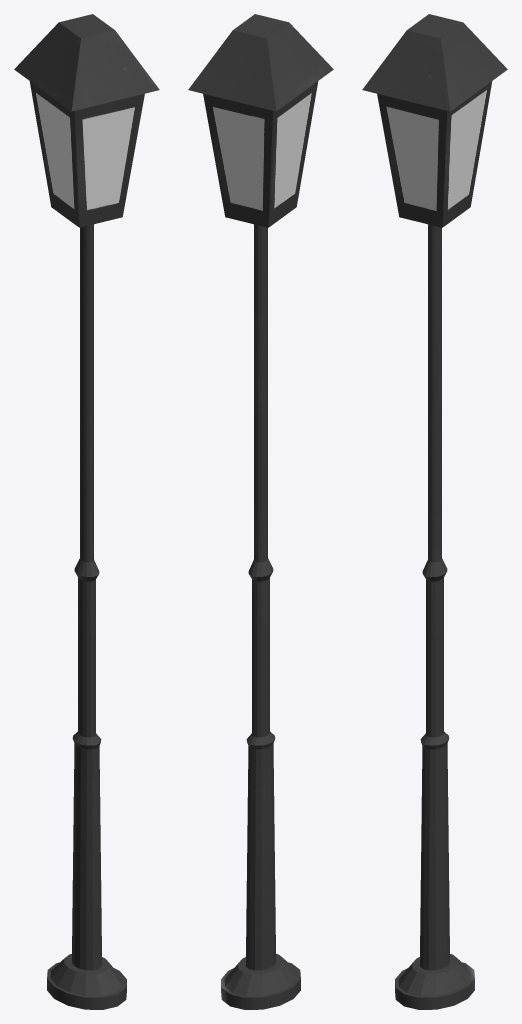
Rendered from villageLamp.obj.
3 views of the same model, side by side, from view 1: azimuth 30°, elevation 25°; view 2: azimuth 150°, elevation 25°; view 3: azimuth 330°, elevation 25° (orthographic).
Visible parts, largest first — view 1: lamp_head.004, lamp_body.004; view 2: lamp_head.004, lamp_body.004; view 3: lamp_head.004, lamp_body.004.
Boxes of the visible parts, left/top/right/bottom form: lamp_head.004: left=14, top=14, right=159, bottom=227; lamp_body.004: left=47, top=224, right=126, bottom=1009; lamp_head.004: left=188, top=14, right=333, bottom=227; lamp_body.004: left=221, top=224, right=300, bottom=1009; lamp_head.004: left=362, top=14, right=507, bottom=227; lamp_body.004: left=395, top=224, right=474, bottom=1009.
Size of the model in its own units: 1.15 by 11.96 by 1.29.
Materials: 2 (2 with a texture image).
